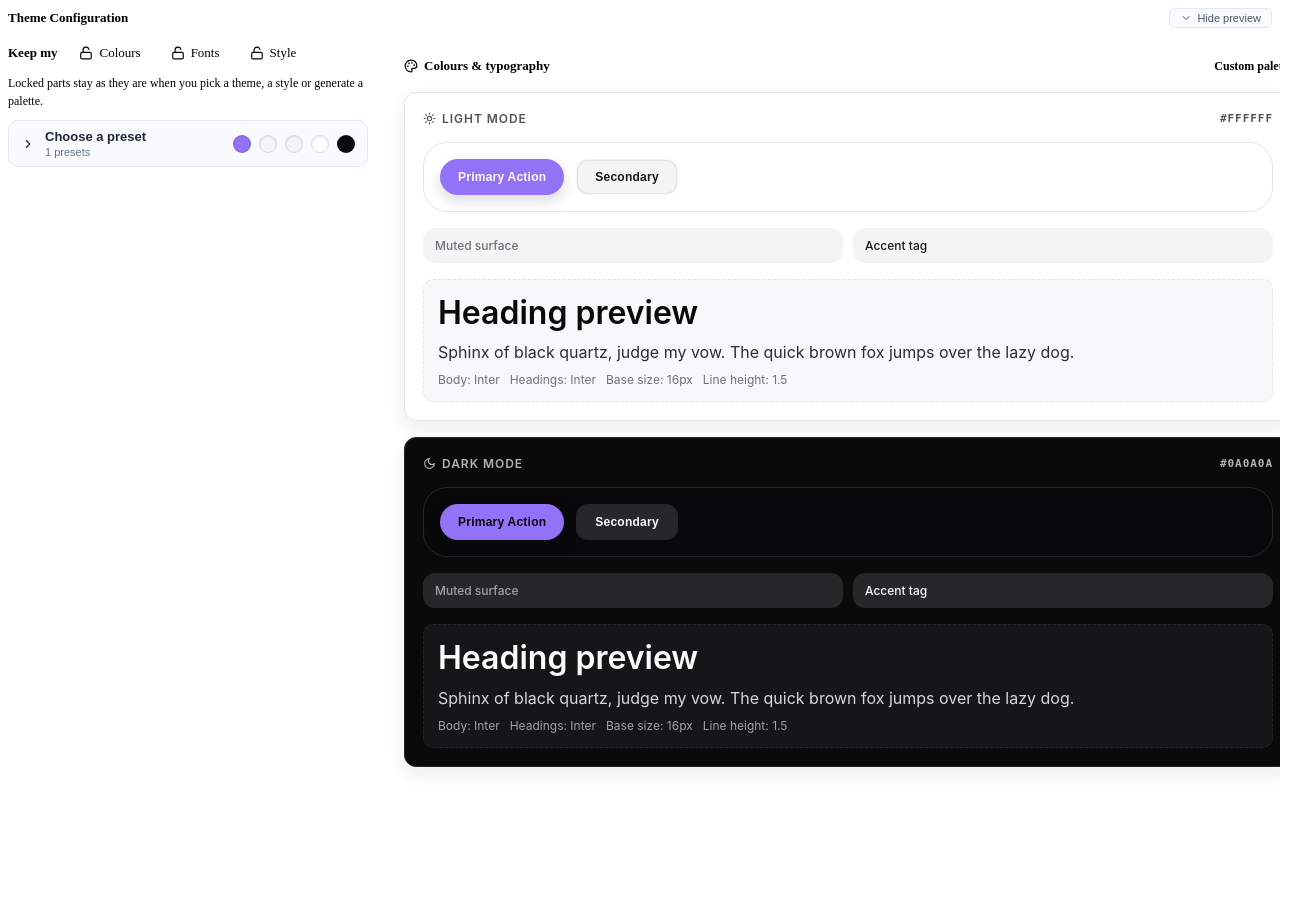
ThemePreviewField › still supports legacy admin.themePresets for compatibility
Click the button "Choose a preset 1 presets": x=96, y=136 [8,120,368,167]
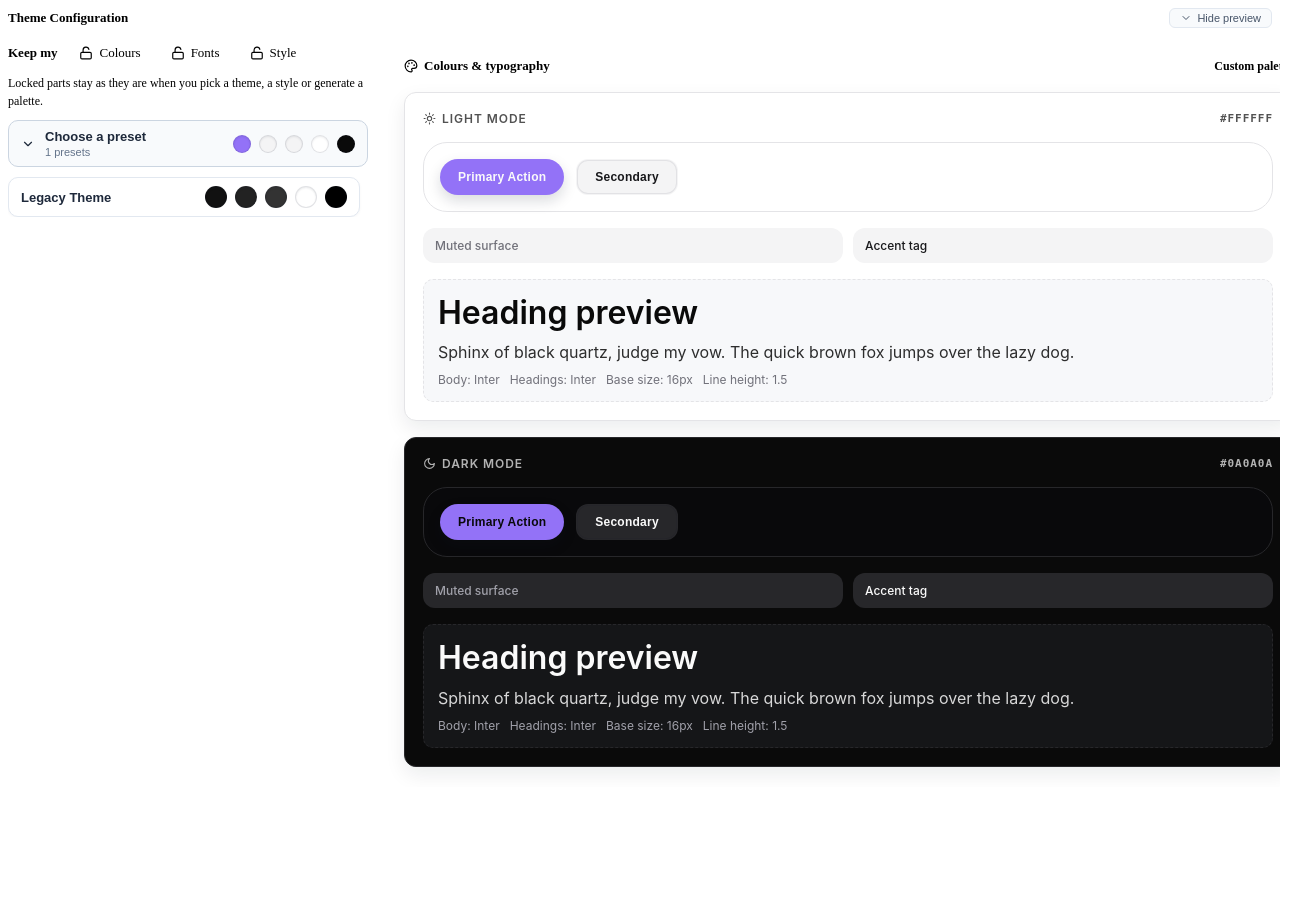
Now the button "Legacy Theme" is shown, box [8,177,360,217]
